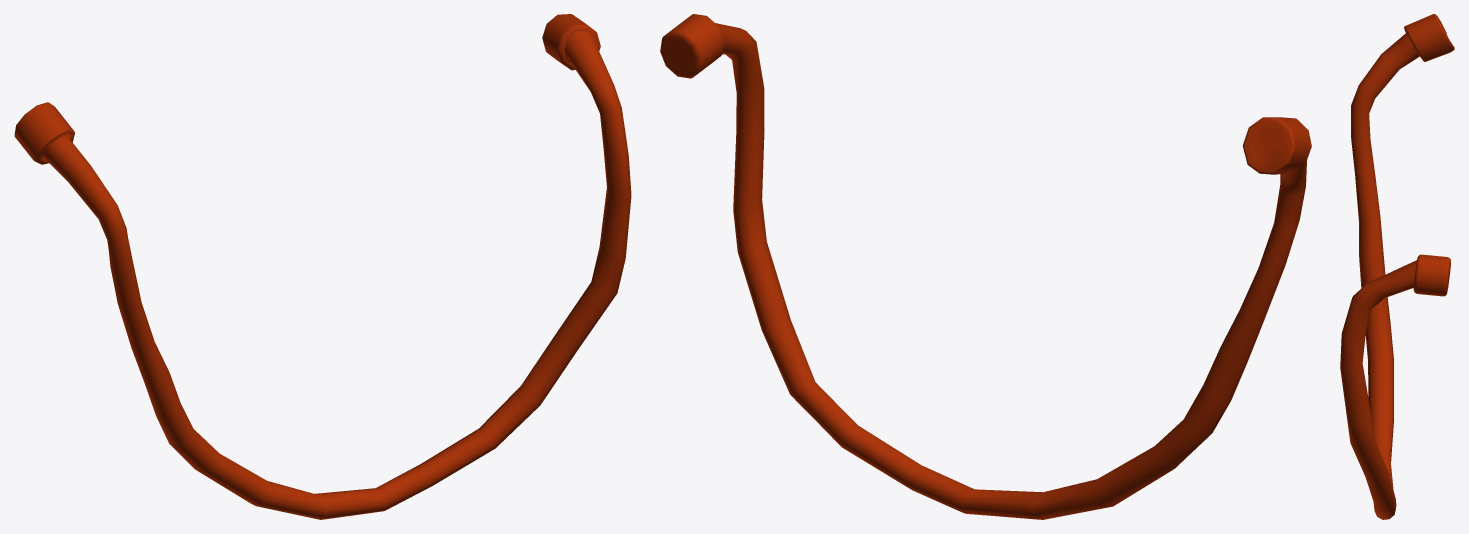
The model's file is Cable_01.fbx.
3 renders of one model, left to right at view 1: azimuth 30°, elevation 25°; view 2: azimuth 150°, elevation 25°; view 3: azimuth 270°, elevation 25°, orthographic. The views are drawn at different scales.
Parts seen in each view (by area): view 1: Cable_01; view 2: Cable_01; view 3: Cable_01.
Part boxes in pixels (left/top/right/bottom): Cable_01: left=14, top=14, right=631, bottom=519; Cable_01: left=660, top=14, right=1311, bottom=519; Cable_01: left=1340, top=14, right=1454, bottom=519.
Bounding box in the file's own units: 33.76 × 25.75 × 7.28.
